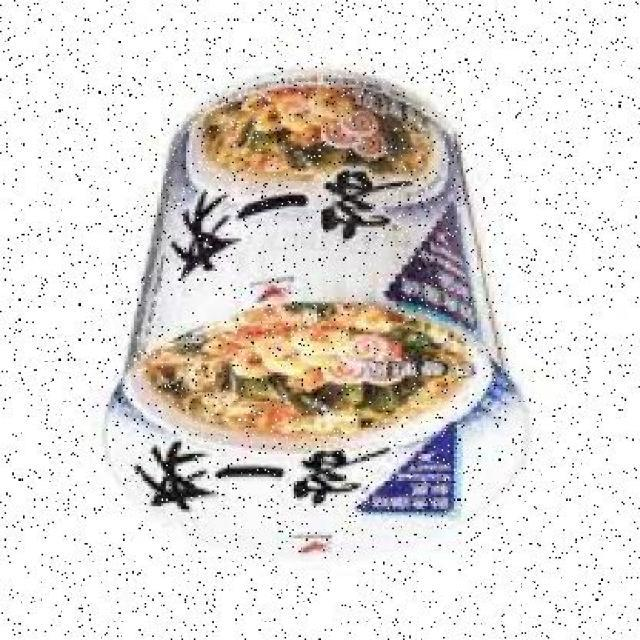Miscellaneous: (113, 73, 544, 567)
